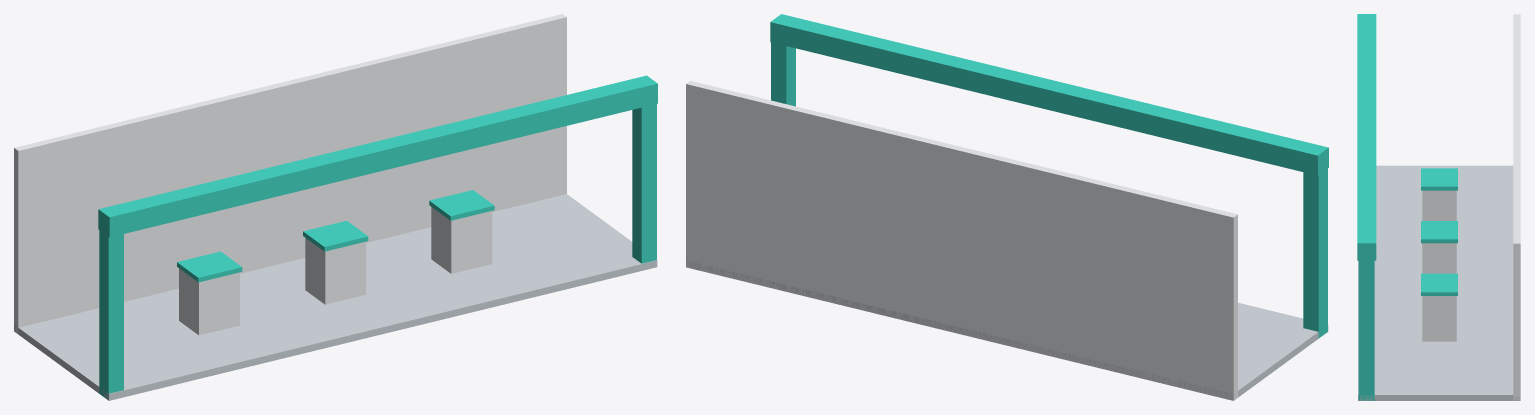
The picture shows the model from 3 angles, left to right: view 1: azimuth 30°, elevation 25°; view 2: azimuth 150°, elevation 25°; view 3: azimuth 270°, elevation 25°; orthographic projection. The views are drawn at different scales.
Visible parts, largest first — view 1: Exhibition Booth Concept; view 2: Exhibition Booth Concept; view 3: Exhibition Booth Concept.
Boxes of the visible parts, bbox=[...] form: Exhibition Booth Concept: bbox=[14, 14, 657, 400]; Exhibition Booth Concept: bbox=[686, 14, 1328, 400]; Exhibition Booth Concept: bbox=[1357, 14, 1520, 400].
Bounding box in the file's own units: 10 × 3.2 × 3.01.
